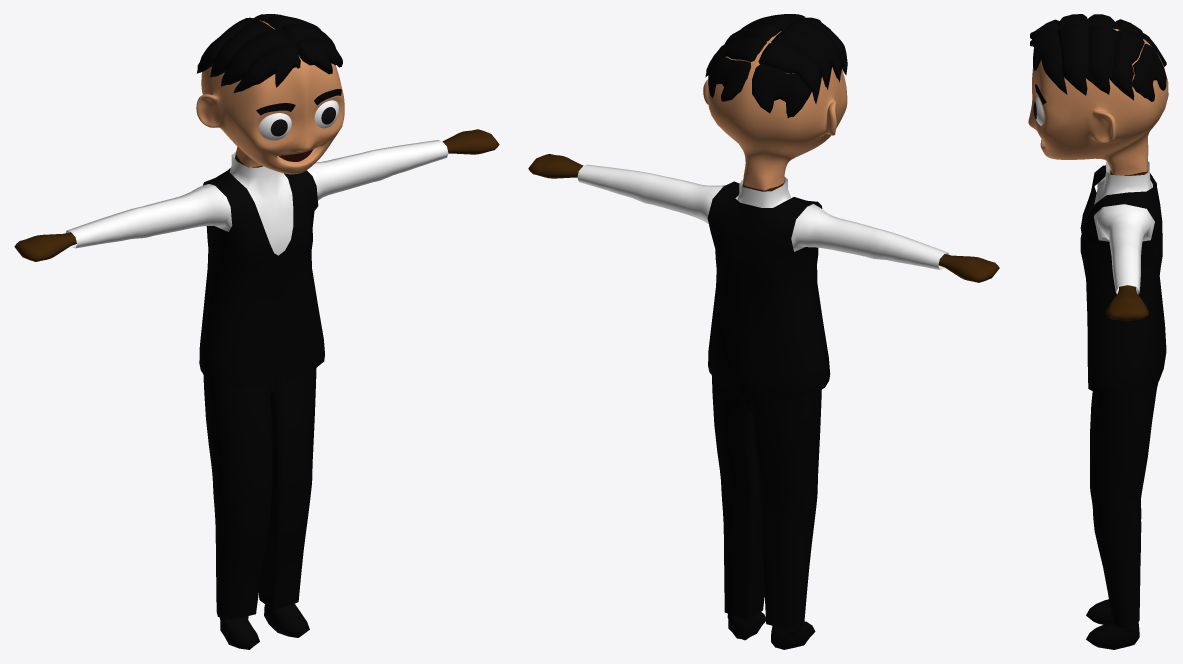
File: 服務生.FBX
3 renders of one model, left to right at view 1: azimuth 30°, elevation 25°; view 2: azimuth 150°, elevation 25°; view 3: azimuth 270°, elevation 25°, orthographic. The views are drawn at different scales.
Visible parts, largest first — view 1: Object110, Object112, Box063, Object108, Object109, Object111; view 2: Object110, Object112, Box063, Object108, Object109, Object111; view 3: Object112, Object110, Box063, Object109, Object108, Object111.
Boxes of the visible parts, bbox=[...] form: Object110: bbox=[203, 368, 316, 619]; Object112: bbox=[199, 168, 324, 389]; Box063: bbox=[14, 20, 499, 261]; Object108: bbox=[66, 140, 448, 255]; Object109: bbox=[196, 14, 342, 93]; Object111: bbox=[219, 604, 309, 649]; Object110: bbox=[711, 375, 821, 629]; Object112: bbox=[707, 181, 830, 403]; Box063: bbox=[528, 31, 999, 282]; Object108: bbox=[577, 164, 949, 269]; Object109: bbox=[705, 14, 847, 118]; Object111: bbox=[727, 612, 815, 649]; Object112: bbox=[1080, 165, 1166, 393]; Object110: bbox=[1090, 378, 1158, 627]; Box063: bbox=[1028, 28, 1168, 321]; Object109: bbox=[1030, 14, 1166, 101]; Object108: bbox=[1094, 161, 1154, 294]; Object111: bbox=[1086, 599, 1139, 649].
Bounding box in the file's own units: 174 × 220 × 45.57.
